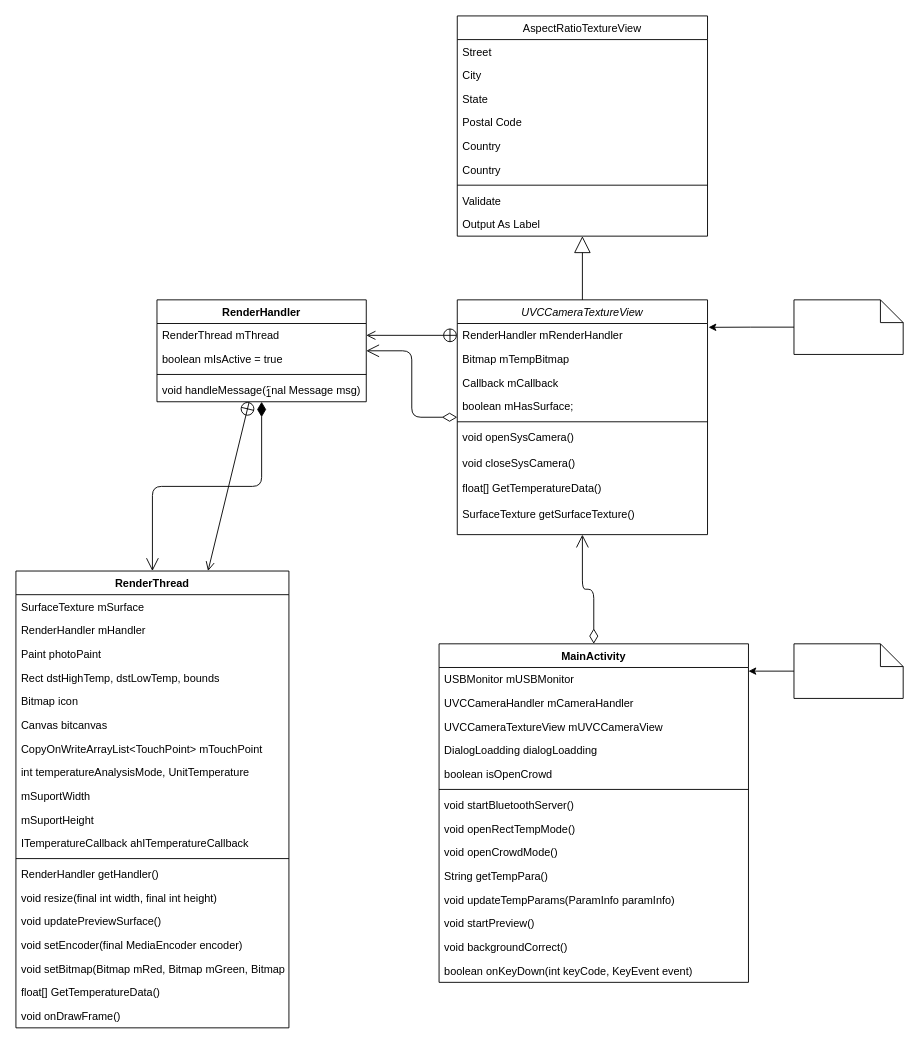
This 919x1047 diagram has some shape labels left out. The centre of each missing label's shape, as x and y in pixels:
USB摄像头图像预览视图: [848,326]
测温界面主控制类: [848,670]
